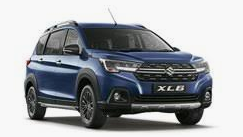car: (21, 20, 214, 131)
